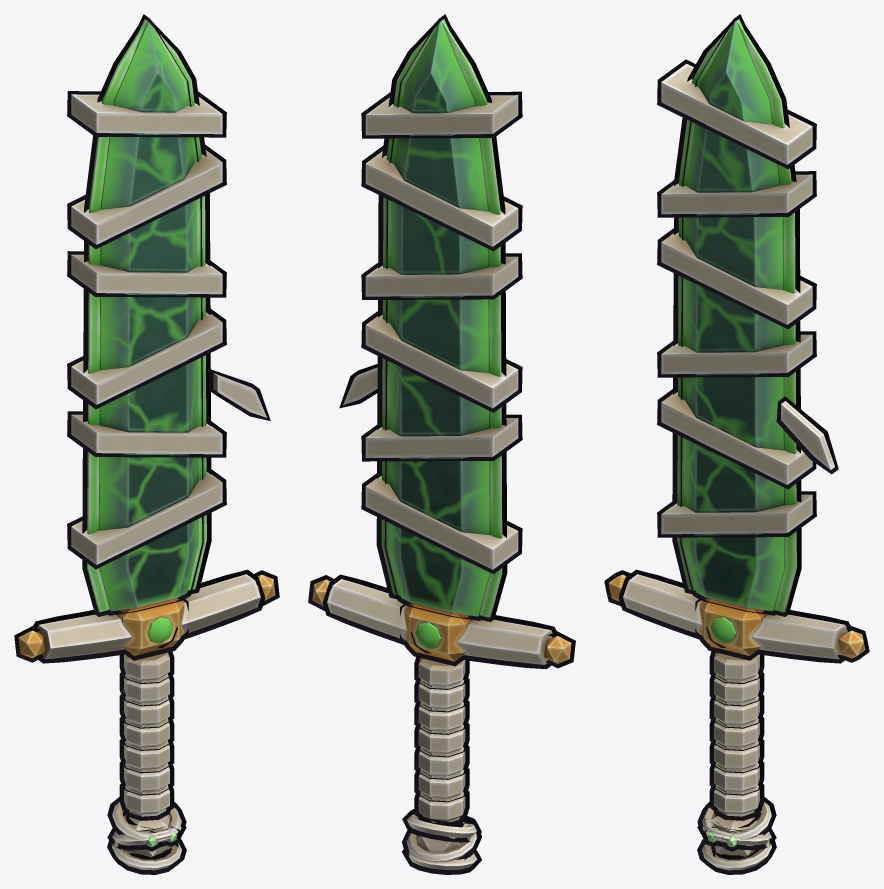
Rendered from MummyBlade.fbx.
3 views of the same model, side by side, from view 1: azimuth 30°, elevation 25°; view 2: azimuth 150°, elevation 25°; view 3: azimuth 330°, elevation 25° (orthographic).
Visible parts, largest first — view 1: MummyBlade, MummyBladeOutline, MummyBladeCurseGlow; view 2: MummyBlade, MummyBladeOutline, MummyBladeCurseGlow; view 3: MummyBlade, MummyBladeOutline, MummyBladeCurseGlow.
Boxes of the visible parts, x1,y1,x2,y2 form: MummyBlade: (18, 19, 275, 870); MummyBladeOutline: (14, 14, 279, 874); MummyBladeCurseGlow: (87, 20, 206, 847); MummyBlade: (312, 19, 571, 869); MummyBladeOutline: (308, 14, 575, 874); MummyBladeCurseGlow: (381, 20, 502, 648); MummyBlade: (608, 19, 865, 870); MummyBladeOutline: (604, 14, 869, 874); MummyBladeCurseGlow: (677, 20, 796, 847).
Size of the model in its own units: 136 by 424 by 36.4.
Materials: 2 (1 with a texture image).
